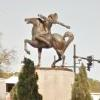Statue: (13, 7, 83, 62)
